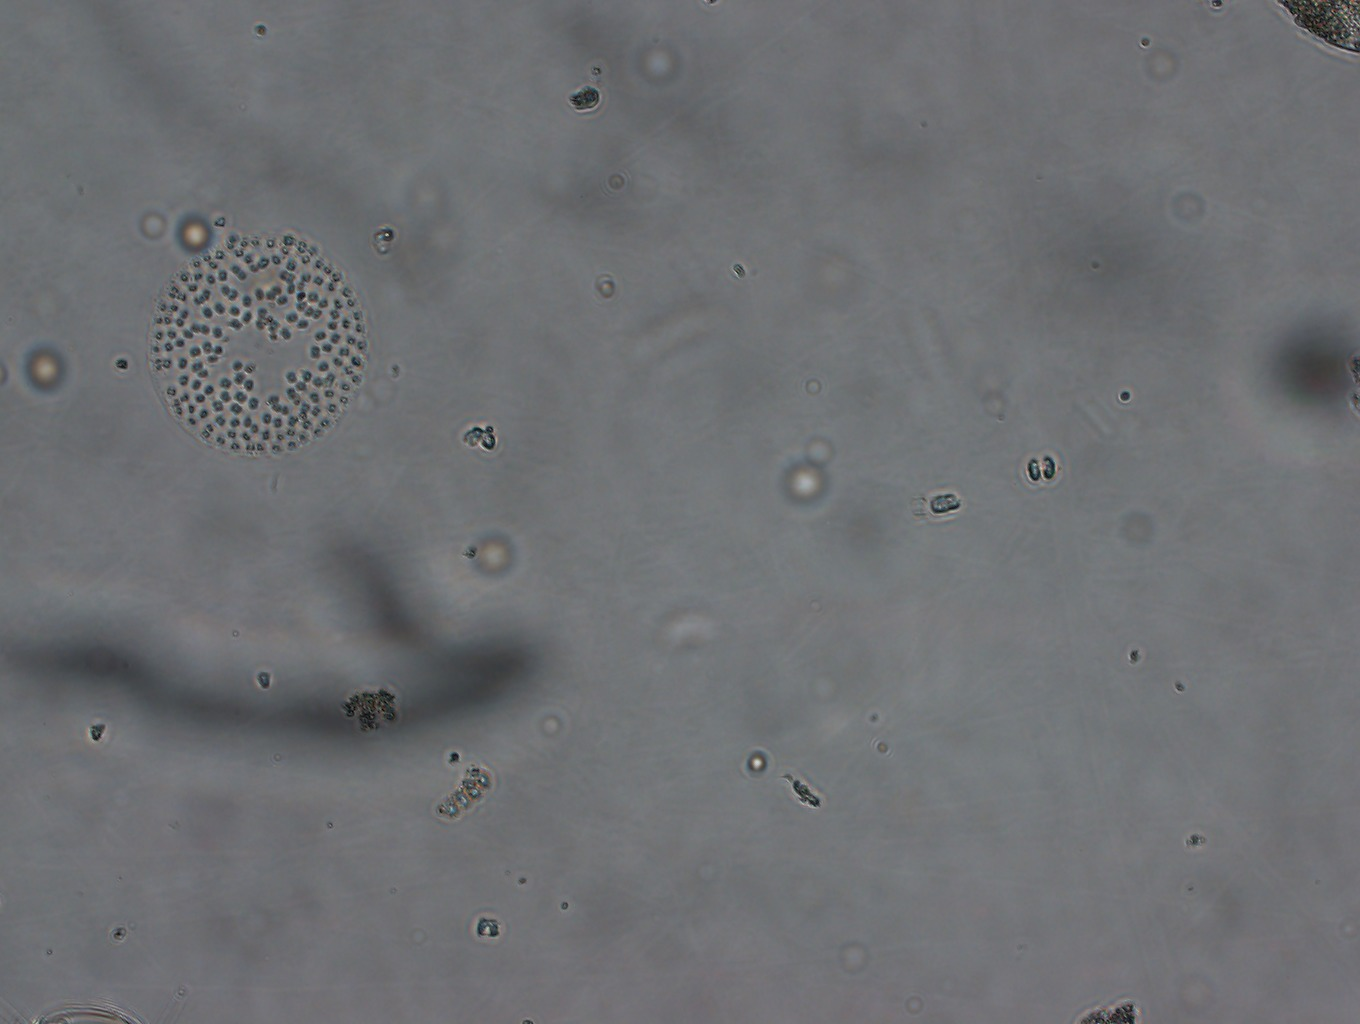coscinodiscus: (135, 222, 375, 466)
